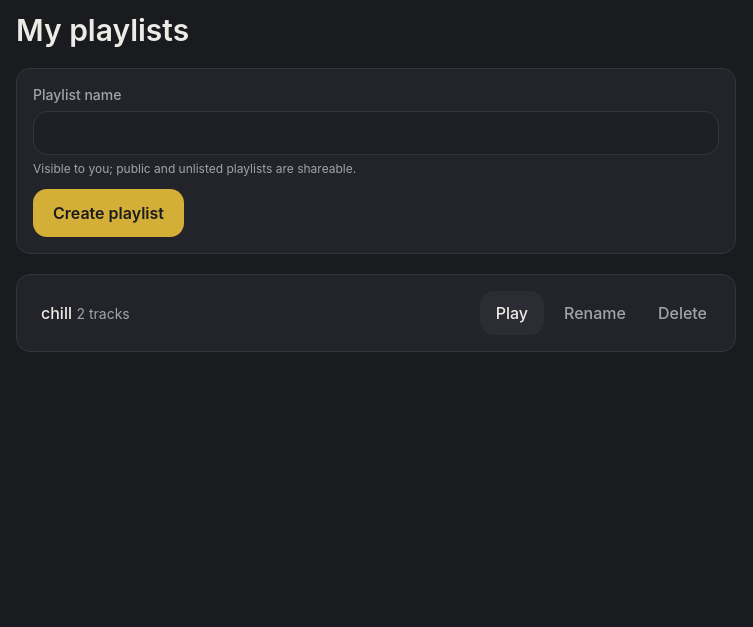
playlists screen states (H-121 task 5) › an unavailable item is marked in words and its controls stay usable
Expected: the text "chill" is shown, [41, 303, 72, 323]
Click the button "chill 2 tracks".
click(56, 313)  # box [33, 291, 472, 335]
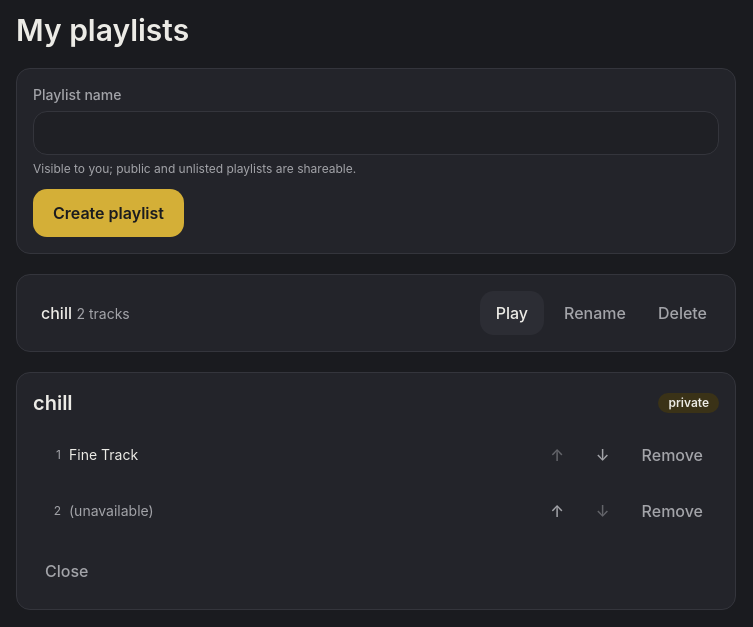
Now the text "Fine Track" is shown, box [69, 446, 138, 463]
Now the text "(unavailable)" is shown, box [69, 502, 154, 519]
